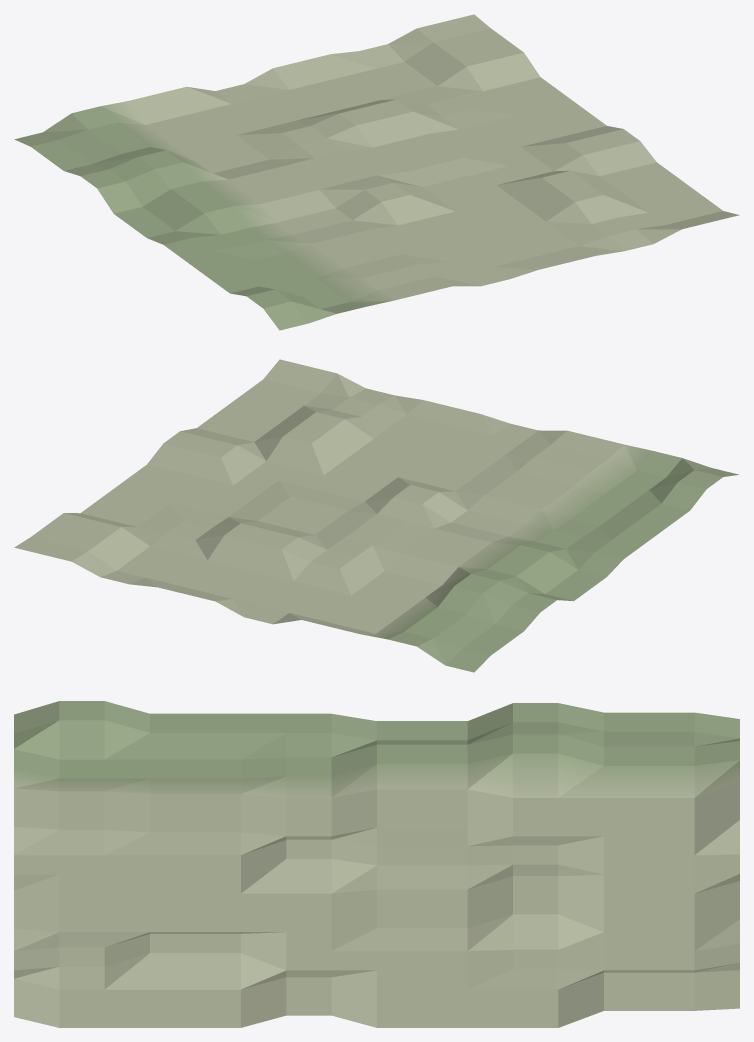
3 views of the same model, one above another, from view 1: azimuth 30°, elevation 25°; view 2: azimuth 150°, elevation 25°; view 3: azimuth 270°, elevation 25° (orthographic). The views are drawn at different scales.
Size of the model in its own units: 32 by 1.22 by 32.
